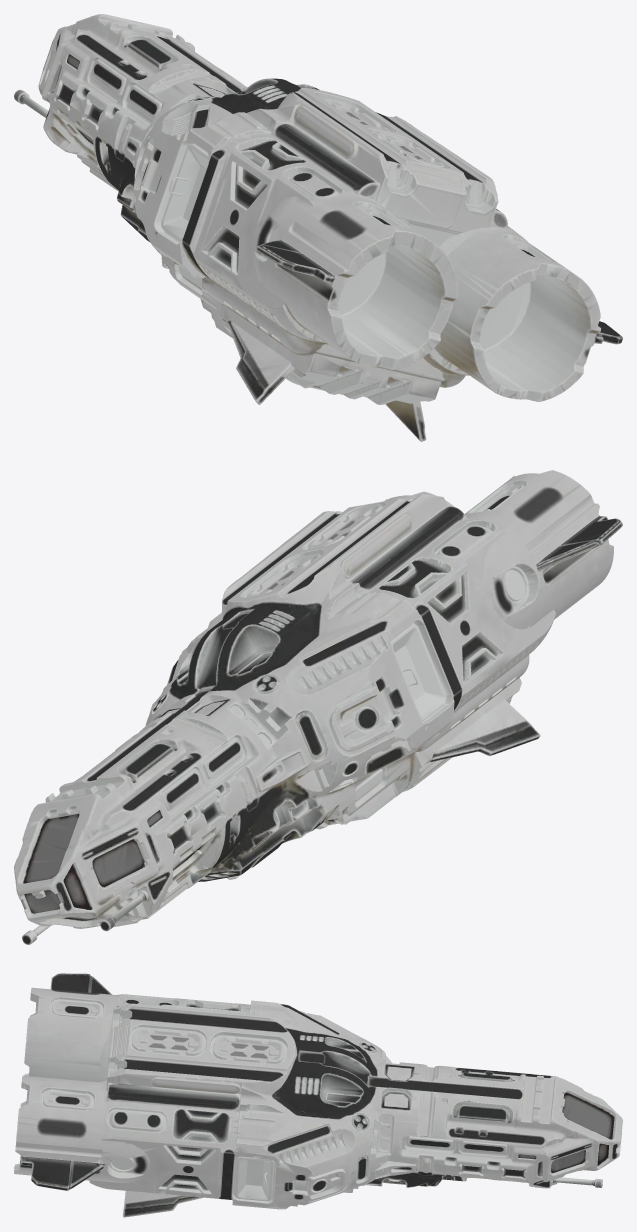
Rendered from spaceship.glb.
3 renders of one model, top to bottom at view 1: azimuth 30°, elevation 25°; view 2: azimuth 150°, elevation 25°; view 3: azimuth 270°, elevation 25°, orthographic. The views are drawn at different scales.
Visible parts, largest first — view 1: Layer_1_Material_0; view 2: Layer_1_Material_0; view 3: Layer_1_Material_0.
Boxes of the visible parts, x1,y1,x2,y2 form: Layer_1_Material_0: (14, 14, 622, 441); Layer_1_Material_0: (14, 470, 622, 944); Layer_1_Material_0: (14, 973, 622, 1217).
Size of the model in its own units: 5.07 by 4.22 by 11.59.
1 material, 1 textured.
